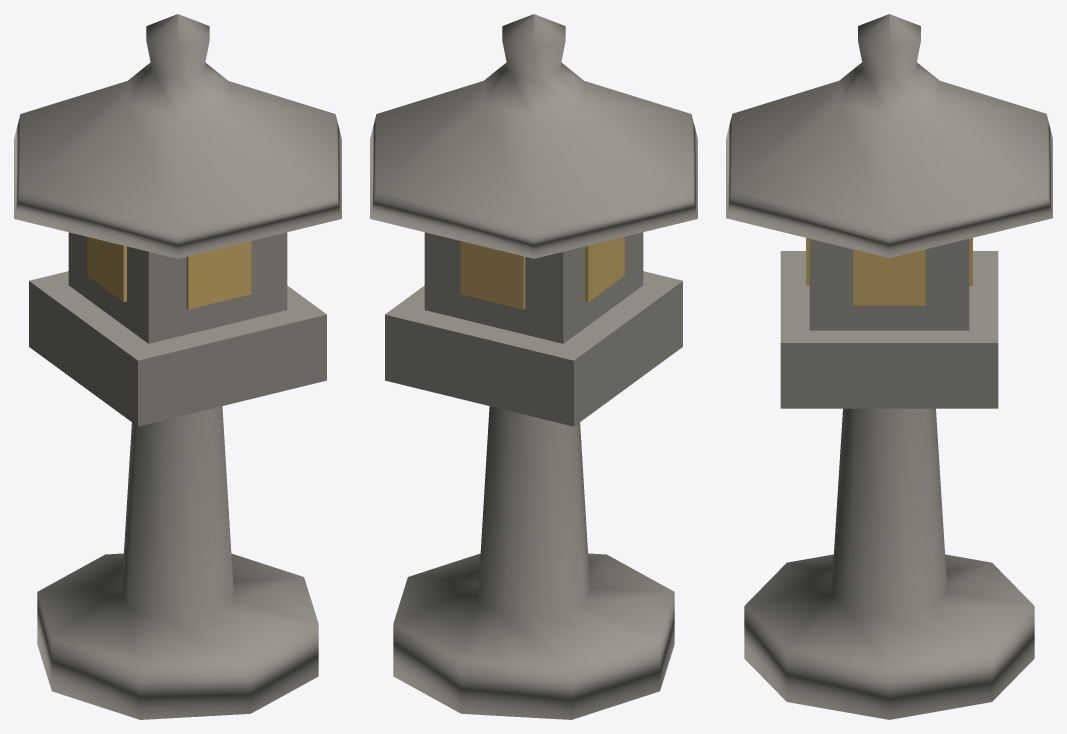
File: garden_lantern.glb
3 views of the same model, side by side, from view 1: azimuth 30°, elevation 25°; view 2: azimuth 150°, elevation 25°; view 3: azimuth 270°, elevation 25° (orthographic).
Visible parts, largest first — view 1: garden_lantern; view 2: garden_lantern; view 3: garden_lantern.
Boxes of the visible parts, bbox=[...] form: garden_lantern: bbox=[14, 14, 341, 719]; garden_lantern: bbox=[370, 14, 697, 719]; garden_lantern: bbox=[726, 14, 1052, 719].
Bounding box in the file's own units: 0.52 × 0.98 × 0.4503.
